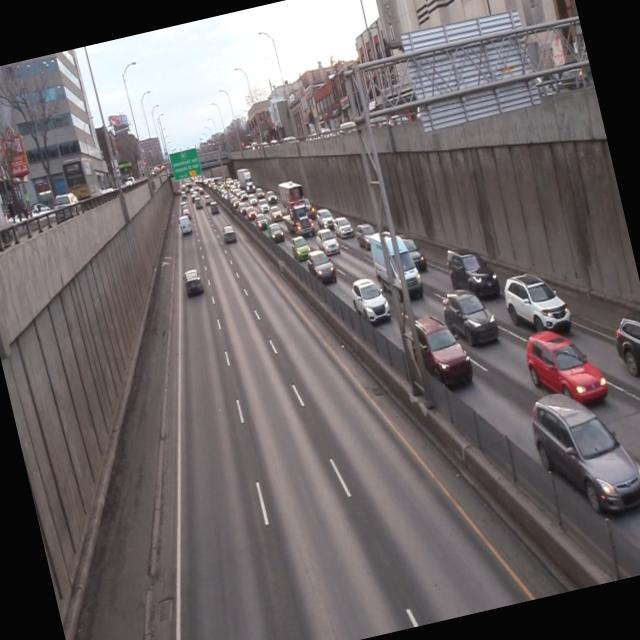Vehicle: (521, 376, 640, 523), (518, 326, 610, 412), (398, 304, 476, 399), (498, 264, 572, 344), (368, 224, 430, 312), (438, 237, 502, 306), (441, 277, 498, 350), (344, 270, 396, 336), (302, 244, 338, 290), (180, 268, 203, 300), (218, 220, 238, 247)
